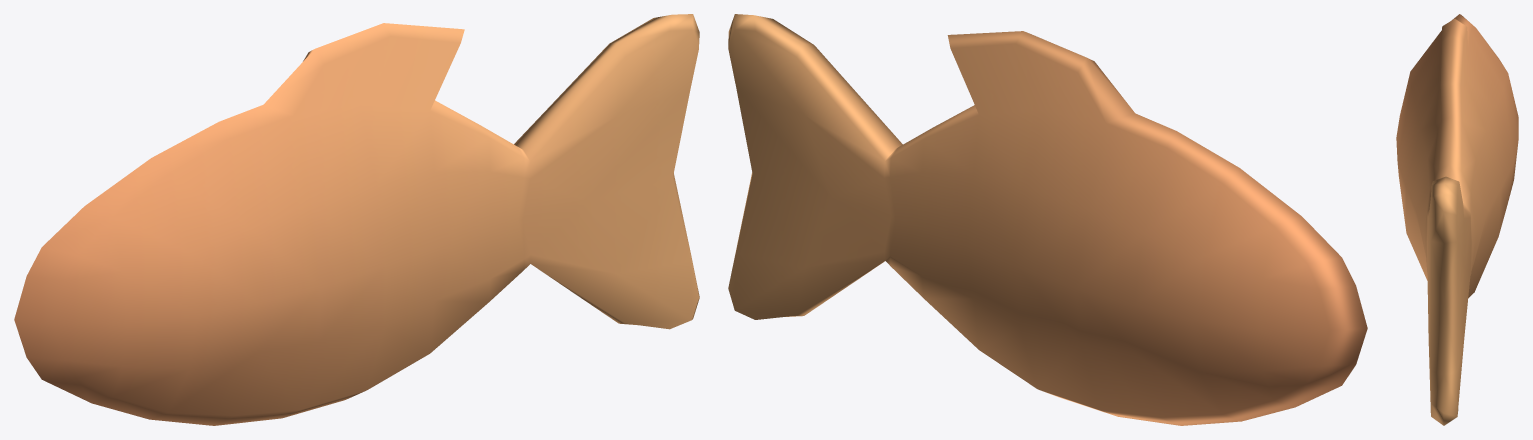
The model's file is PR_FishTreat.fbx.
3 renders of one model, left to right at view 1: azimuth 30°, elevation 25°; view 2: azimuth 150°, elevation 25°; view 3: azimuth 270°, elevation 25°, orthographic. The views are drawn at different scales.
Visible parts, largest first — view 1: PR_FishTreat; view 2: PR_FishTreat; view 3: PR_FishTreat.
Part boxes in pixels (box(x1,y1,x2,y2)): PR_FishTreat: box(14, 14, 699, 425); PR_FishTreat: box(728, 14, 1367, 425); PR_FishTreat: box(1396, 14, 1518, 425).
Size of the model in its own units: 60.6 by 32.07 by 12.57.
